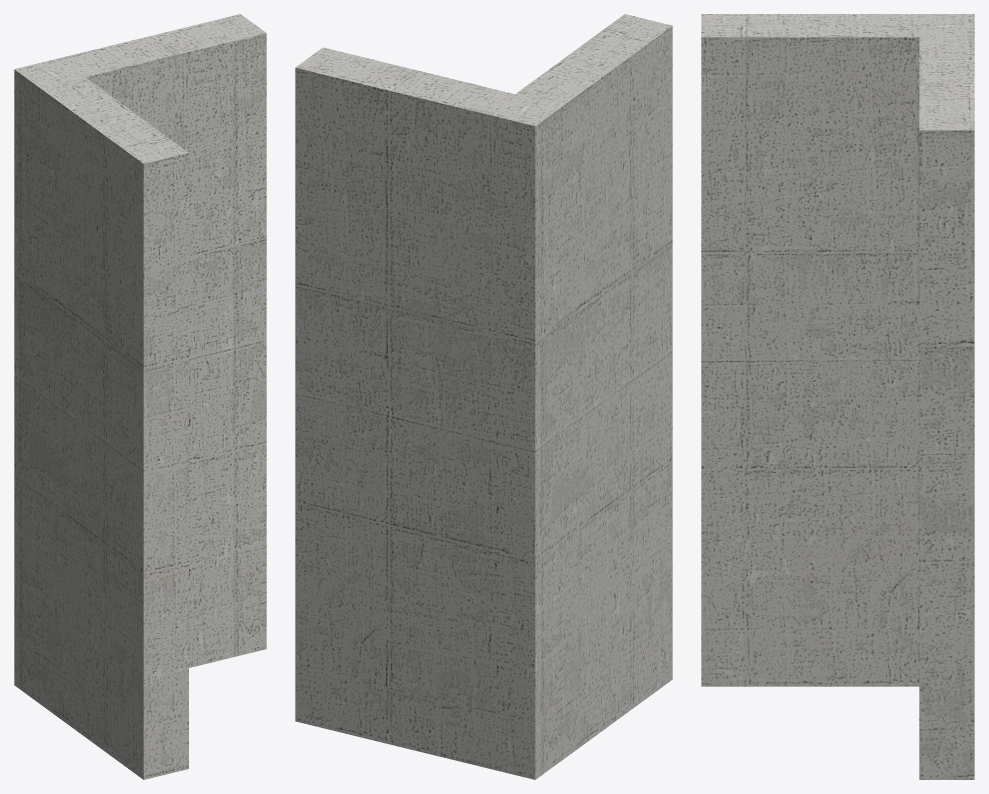
Rendered from Wall_corner.fbx.
3 views of the same model, side by side, from view 1: azimuth 30°, elevation 25°; view 2: azimuth 150°, elevation 25°; view 3: azimuth 270°, elevation 25° (orthographic). The views are drawn at different scales.
Parts seen in each view (by area): view 1: pCube1; view 2: pCube1; view 3: pCube1.
Part boxes in pixels (left/top/right/bottom): pCube1: left=14, top=14, right=266, bottom=779; pCube1: left=295, top=14, right=672, bottom=779; pCube1: left=701, top=14, right=974, bottom=779.
Bounding box in the file's own units: 1 × 2.6 × 0.9906.
